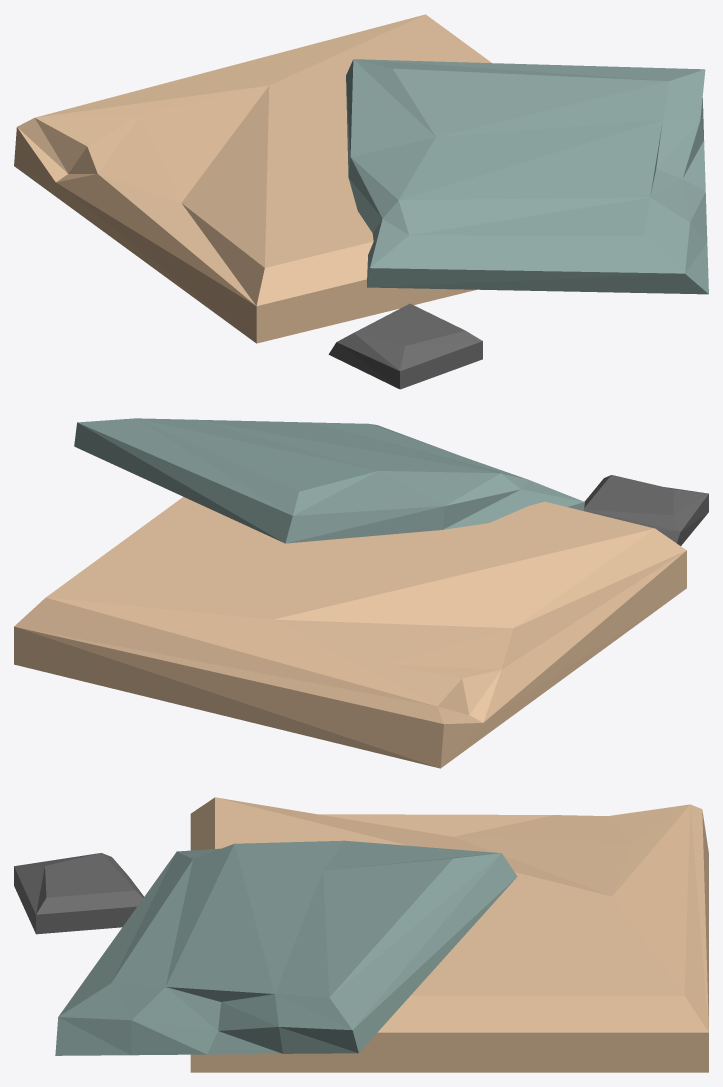
Rendered from Stones1_Final.fbx.
3 renders of one model, top to bottom at view 1: azimuth 30°, elevation 25°; view 2: azimuth 150°, elevation 25°; view 3: azimuth 270°, elevation 25°, orthographic. The views are drawn at different scales.
Parts seen in each view (by area): view 1: Stones1; view 2: Stones1; view 3: Stones1.
Part boxes in pixels (<box>): Stones1: <box>14,14,708,389</box>; Stones1: <box>14,418,708,768</box>; Stones1: <box>14,797,708,1072</box>.
Size of the model in its own units: 68.73 by 15.29 by 73.75.
